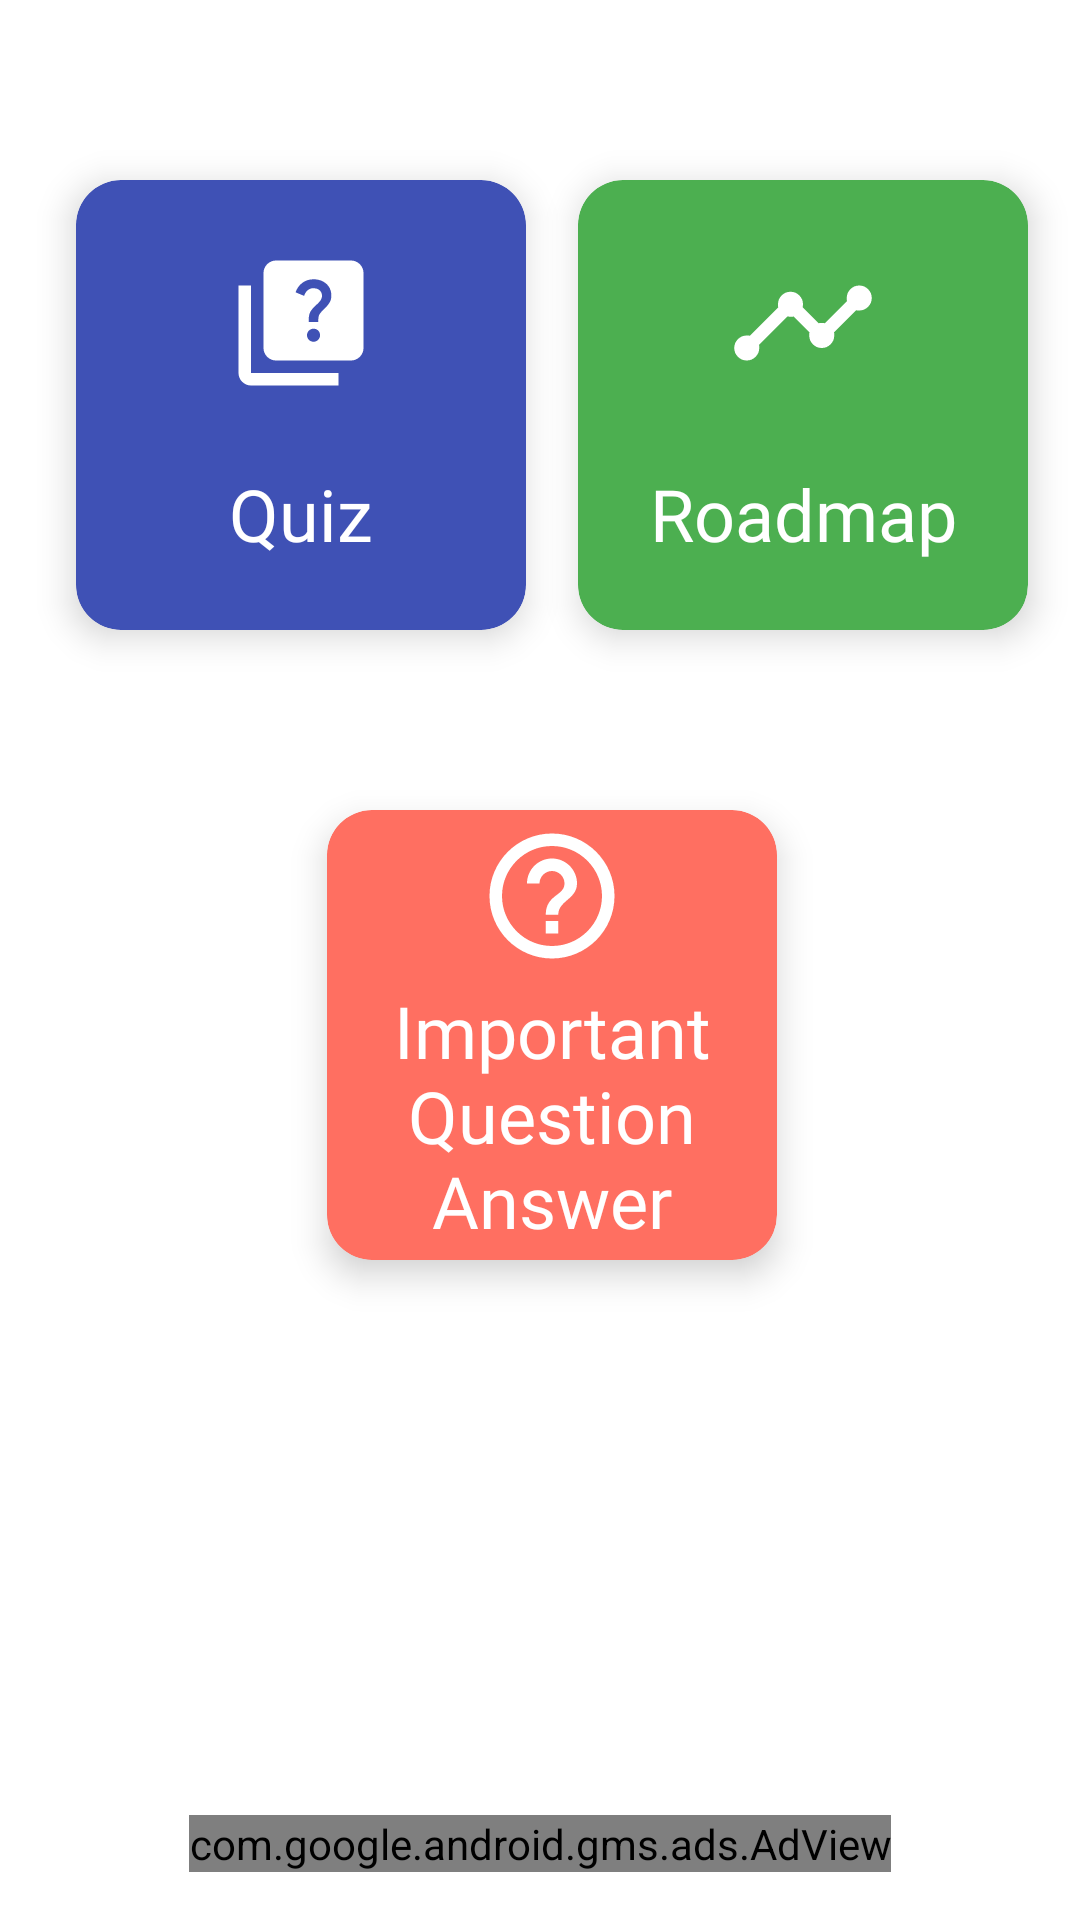

Screen size 1080w x 1920h. Icon name, then its center in pixels as (x=x, y=y):
help: (x=552, y=896)
